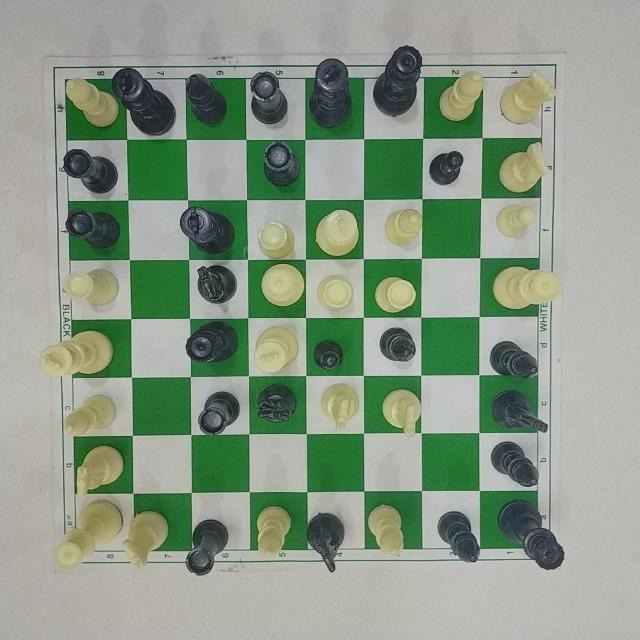black-bishop: (434, 509, 482, 564), (488, 439, 540, 489), (184, 72, 229, 127), (488, 339, 540, 380), (377, 324, 417, 363)
black-king: (109, 66, 178, 139), (305, 57, 354, 131), (177, 204, 236, 256)
black-knight: (490, 388, 550, 436), (304, 510, 346, 574), (195, 263, 239, 306), (254, 382, 297, 425)
black-pawn: (426, 148, 465, 187), (312, 339, 346, 371)
black-queen: (495, 498, 566, 572), (370, 42, 423, 119), (183, 319, 239, 365)
black-rook: (62, 146, 120, 195), (183, 518, 230, 578), (63, 207, 121, 251), (248, 70, 290, 126), (195, 390, 241, 438), (260, 139, 301, 189)
white-bishop: (63, 76, 121, 130), (437, 68, 485, 123), (62, 392, 118, 438), (366, 502, 406, 559), (254, 504, 293, 560), (383, 207, 425, 247)
white-king: (36, 328, 116, 380), (252, 324, 300, 374), (313, 208, 361, 258)
white-knight: (497, 68, 558, 125), (120, 508, 170, 572), (496, 140, 552, 195), (74, 444, 126, 500), (318, 381, 362, 433), (381, 387, 423, 439)
white-pawn: (494, 203, 538, 239)
white-queen: (50, 497, 124, 572), (490, 264, 564, 312), (258, 261, 307, 309)
white-rook: (62, 267, 120, 307), (373, 275, 419, 315), (255, 219, 296, 261), (314, 272, 355, 313)
